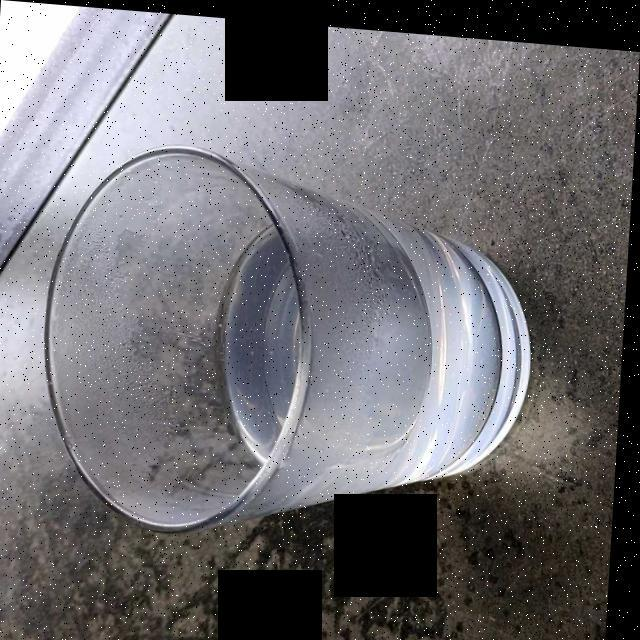water: (223, 185, 537, 497)
